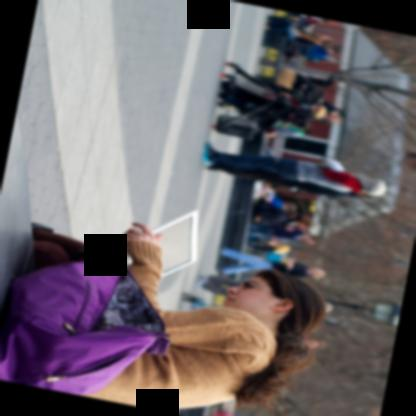handbag: (0, 254, 171, 396)
suitcase: (214, 114, 255, 139)
